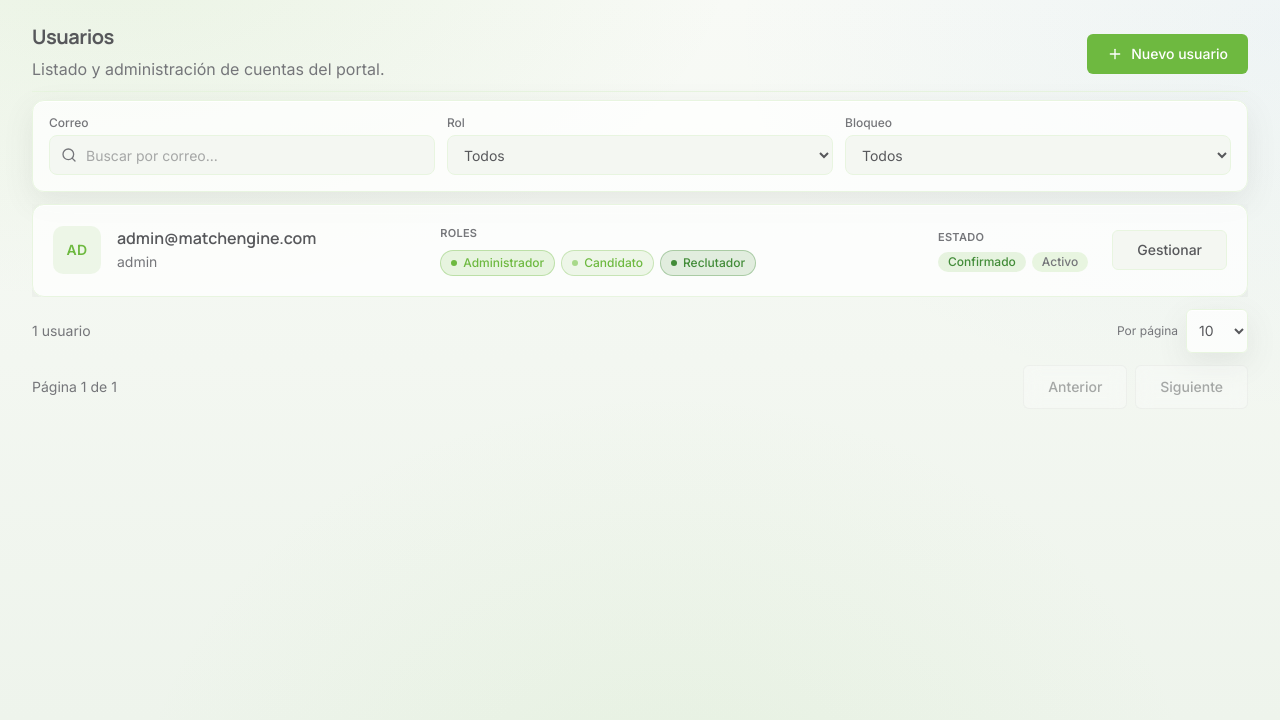
Test case: AdminUsuariosContent › opens a balanced detail modal with lock in the status tile and recovery in the footer
Click the button with aria-label "Gestionar usuario admin@matchengine.com". click: click(1170, 250)
box: [1112,230,1227,270]
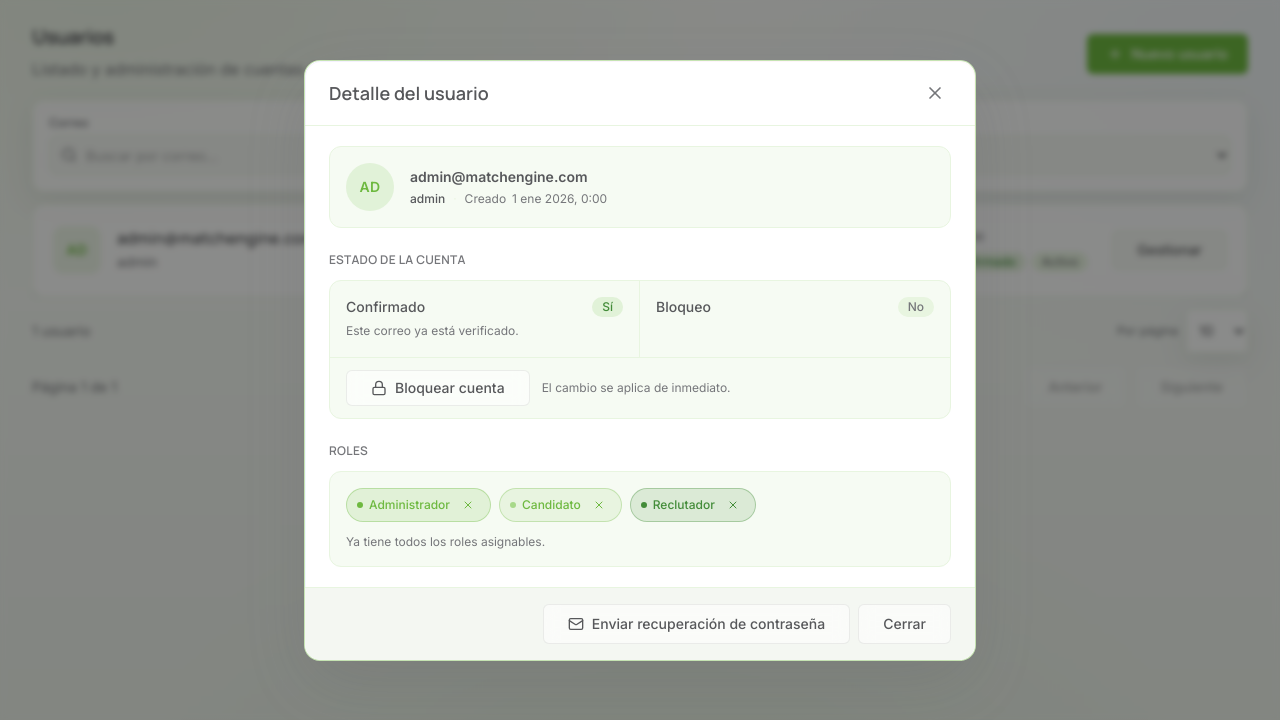
Expected: the heading "Detalle del usuario" is shown, [329,78,489,106]
Expected: the text "admin@matchengine.com" is shown, [410,168,588,184]
Expected: the heading "Estado de la cuenta" is shown, [329,250,466,268]
